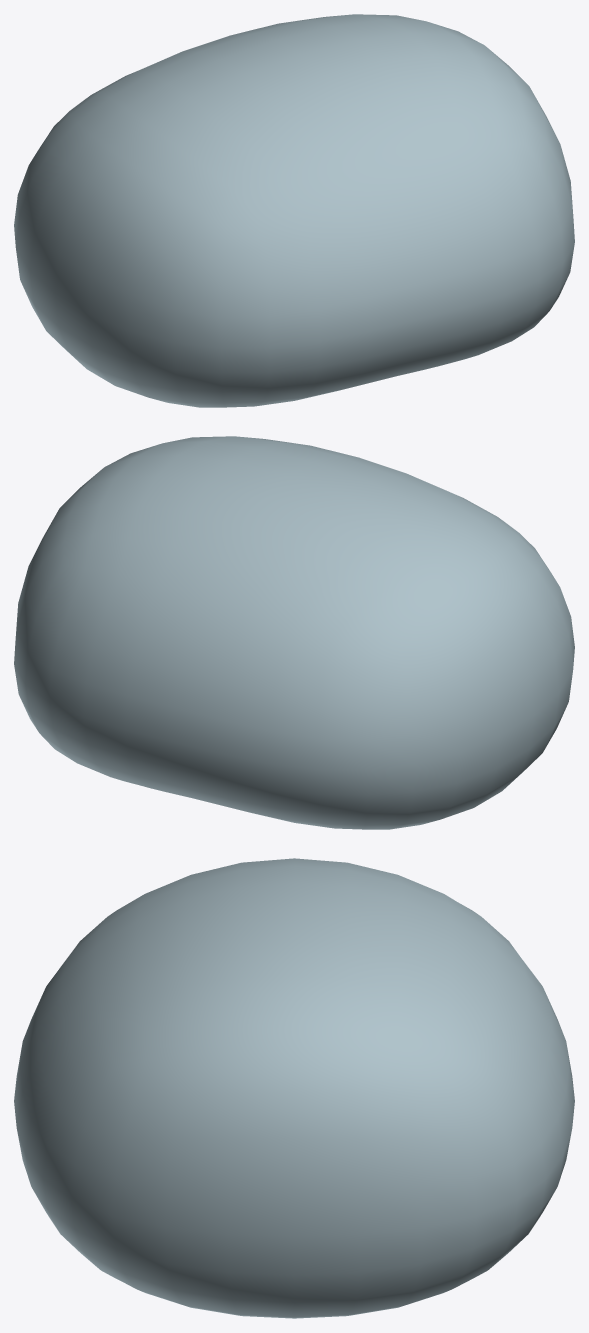
The model's file is Rock_A_01.fbx.
3 renders of one model, top to bottom at view 1: azimuth 30°, elevation 25°; view 2: azimuth 150°, elevation 25°; view 3: azimuth 270°, elevation 25°, orthographic. The views are drawn at different scales.
Parts seen in each view (by area): view 1: Rock_A_01_LOD0; view 2: Rock_A_01_LOD0; view 3: Rock_A_01_LOD0.
Part boxes in pixels (left/top/right/bottom): Rock_A_01_LOD0: left=14, top=14, right=574, bottom=407; Rock_A_01_LOD0: left=14, top=436, right=574, bottom=829; Rock_A_01_LOD0: left=14, top=858, right=574, bottom=1318.
Size of what is drawn, in the model's own units: 289 by 163 by 258.
